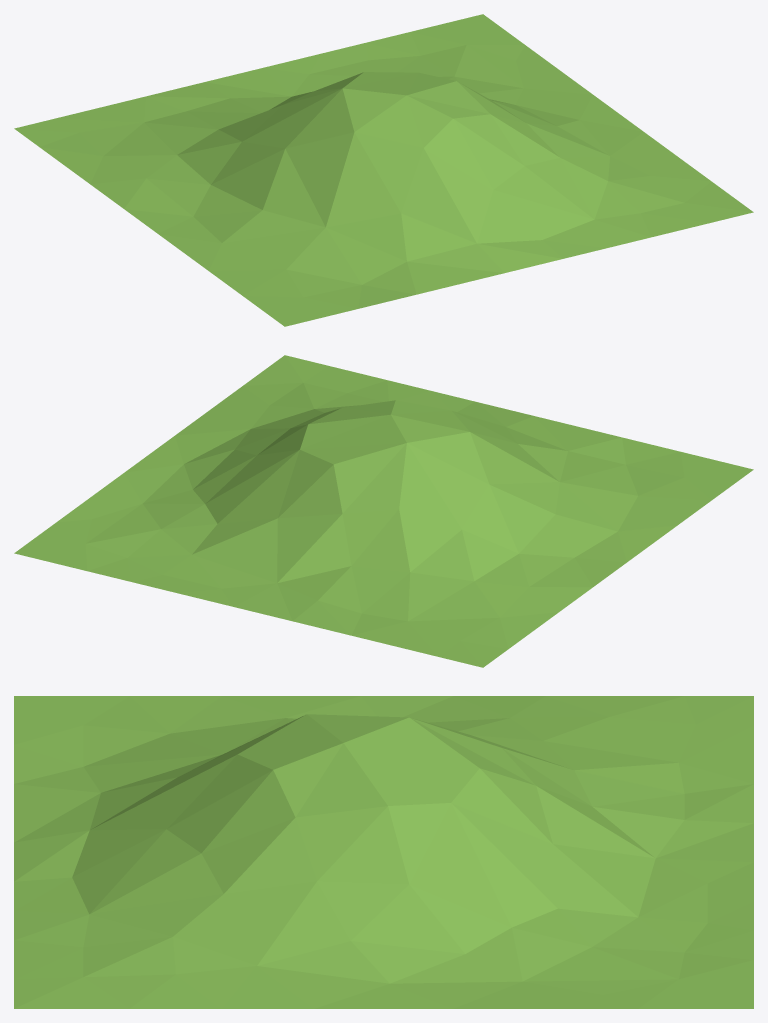
The model's file is MT_Terrain_S_a_11.fbx.
The picture shows the model from 3 angles, top to bottom: view 1: azimuth 30°, elevation 25°; view 2: azimuth 150°, elevation 25°; view 3: azimuth 270°, elevation 25°; orthographic projection. The views are drawn at different scales.
Parts seen in each view (by area): view 1: MT_Terrain_S_a_11; view 2: MT_Terrain_S_a_11; view 3: MT_Terrain_S_a_11.
Boxes of the visible parts, x1,y1,x2,y2 form: MT_Terrain_S_a_11: (14,14,753,326); MT_Terrain_S_a_11: (14,355,753,667); MT_Terrain_S_a_11: (14,696,753,1008).
Bounding box in the file's own units: 2500 × 436 × 2500.
